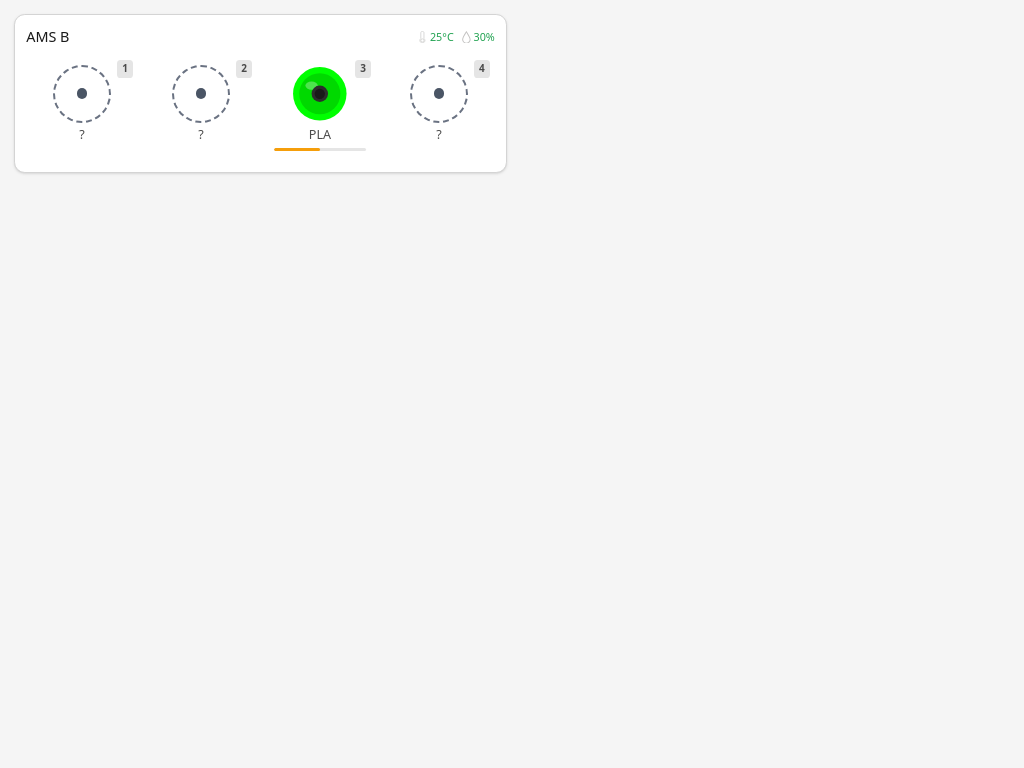
SpoolBuddyAmsPage slot-action wiring › closing the picker without choosing an action sends nothing
Click the button with test id "ams-slot": (320, 108) [264,55,376,161]
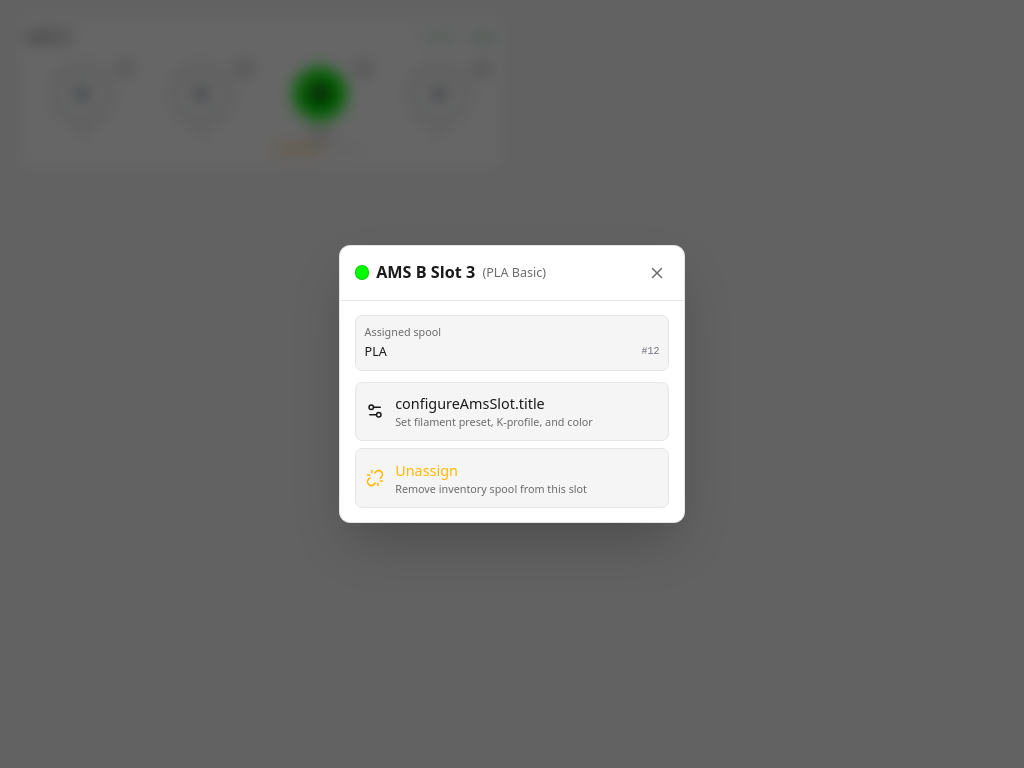
Expected: the text "Remove inventory spool from this slot" is shown, [395,482,587,496]
Click the 1st element with class "inset-0": (61, 384) [0,0,1023,767]
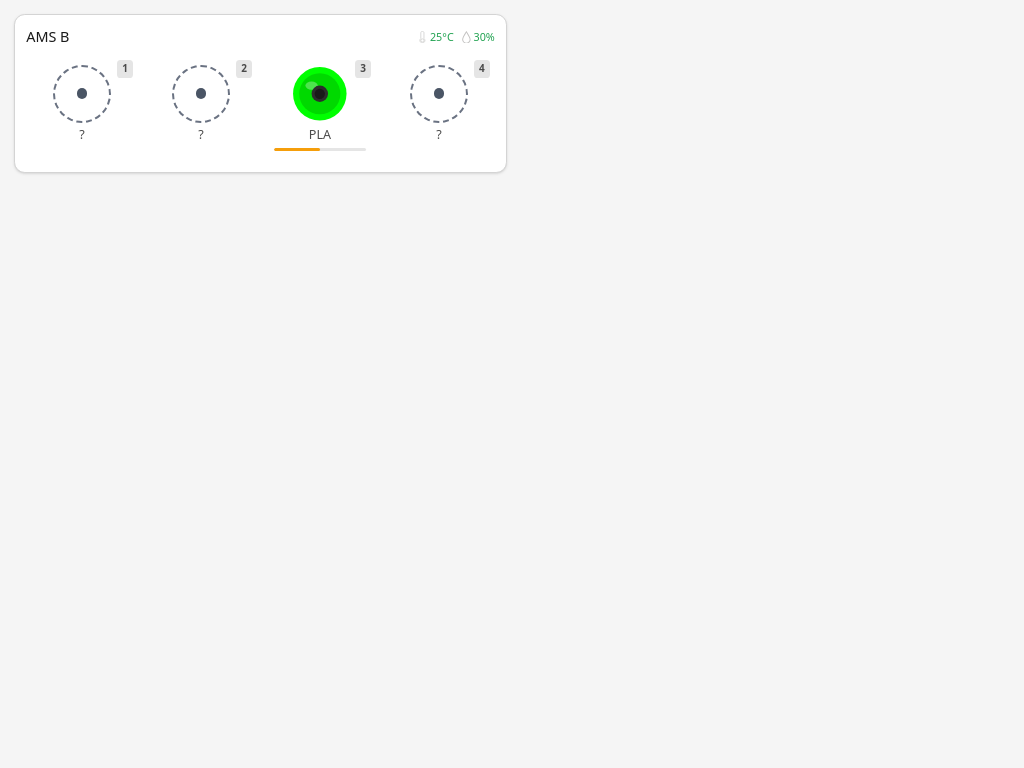
Expected: the button "Remove inventory spool from this slot" is gone
